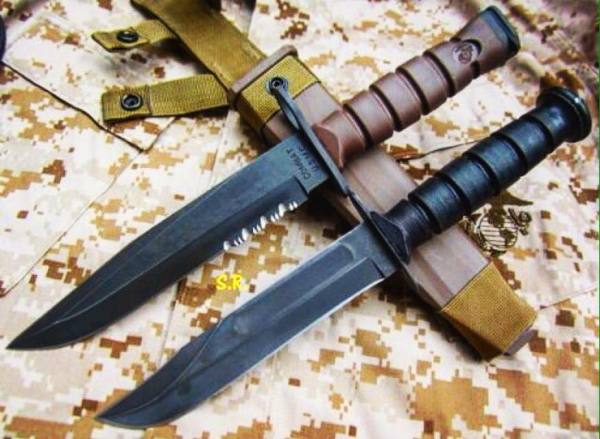knife: (9, 14, 587, 429)
